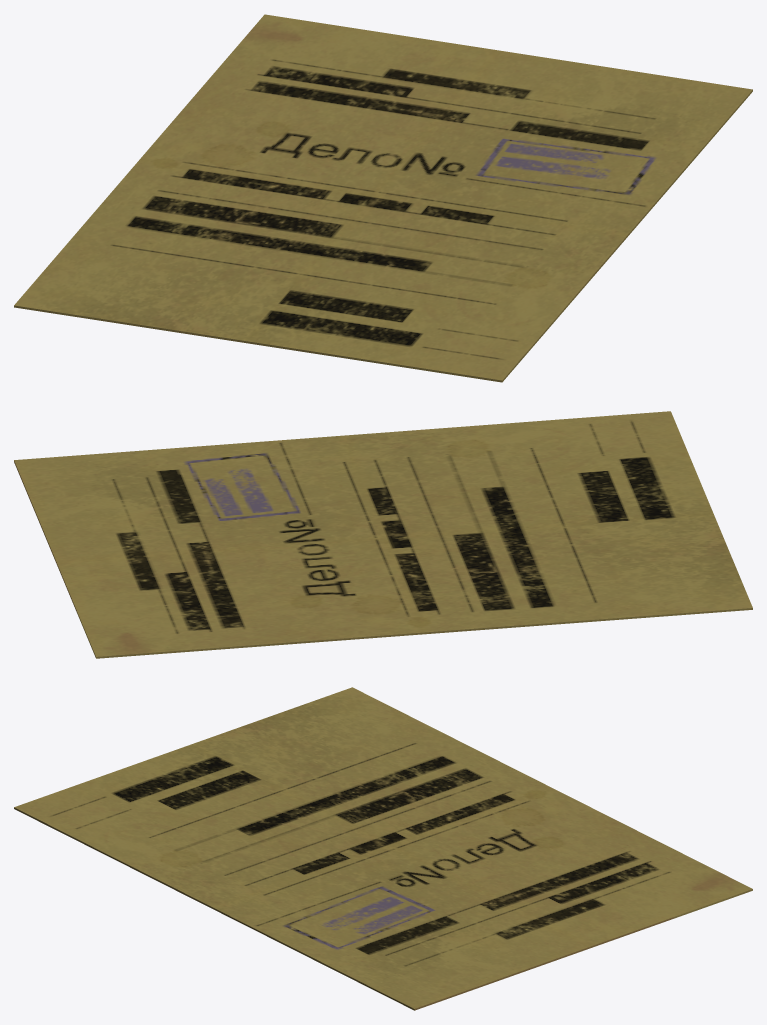
The model's file is desk_paper.glb.
3 renders of one model, top to bottom at view 1: azimuth 30°, elevation 25°; view 2: azimuth 150°, elevation 25°; view 3: azimuth 270°, elevation 25°, orthographic. The views are drawn at different scales.
Parts seen in each view (by area): view 1: DeskPaperMesh; view 2: DeskPaperMesh; view 3: DeskPaperMesh.
Part boxes in pixels (x1,y1,x2,y2): DeskPaperMesh: (14,14,752,382); DeskPaperMesh: (14,411,752,658); DeskPaperMesh: (14,687,752,1010).
Bounding box in the file's own units: 0.3653 × 0.0009 × 0.3546.
1 material, 1 textured.
